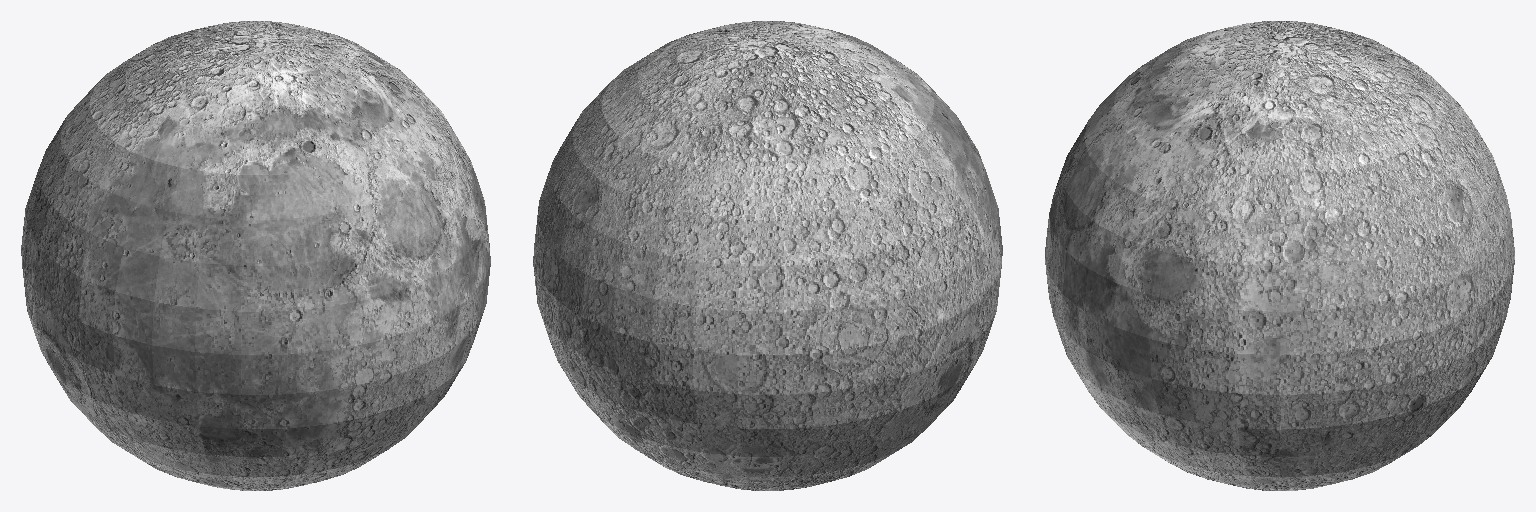
3 renders of one model, left to right at view 1: azimuth 30°, elevation 25°; view 2: azimuth 150°, elevation 25°; view 3: azimuth 270°, elevation 25°, orthographic.
Parts seen in each view (by area): view 1: Moon; view 2: Moon; view 3: Moon.
Part boxes in pixels (x1,y1,x2,y2): Moon: (21, 21, 490, 490); Moon: (533, 21, 1002, 490); Moon: (1045, 21, 1514, 490).
Bounding box in the file's own units: 1226 × 1226 × 1226.
Materials: 1 (1 with a texture image).